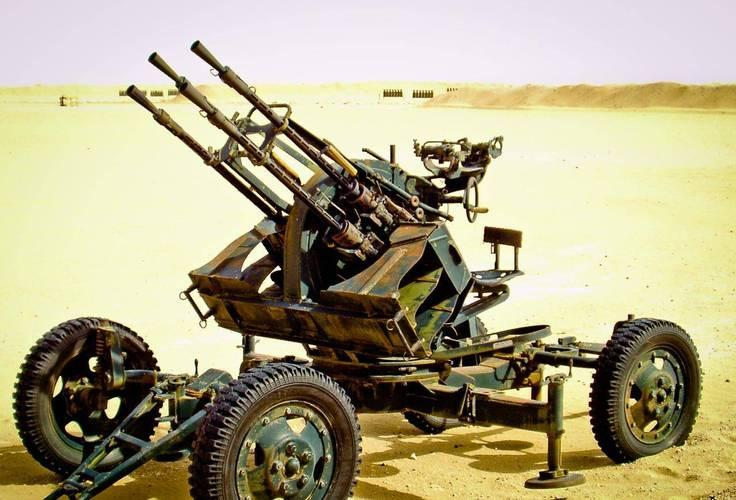MIL_SPG: (13, 42, 702, 500)
